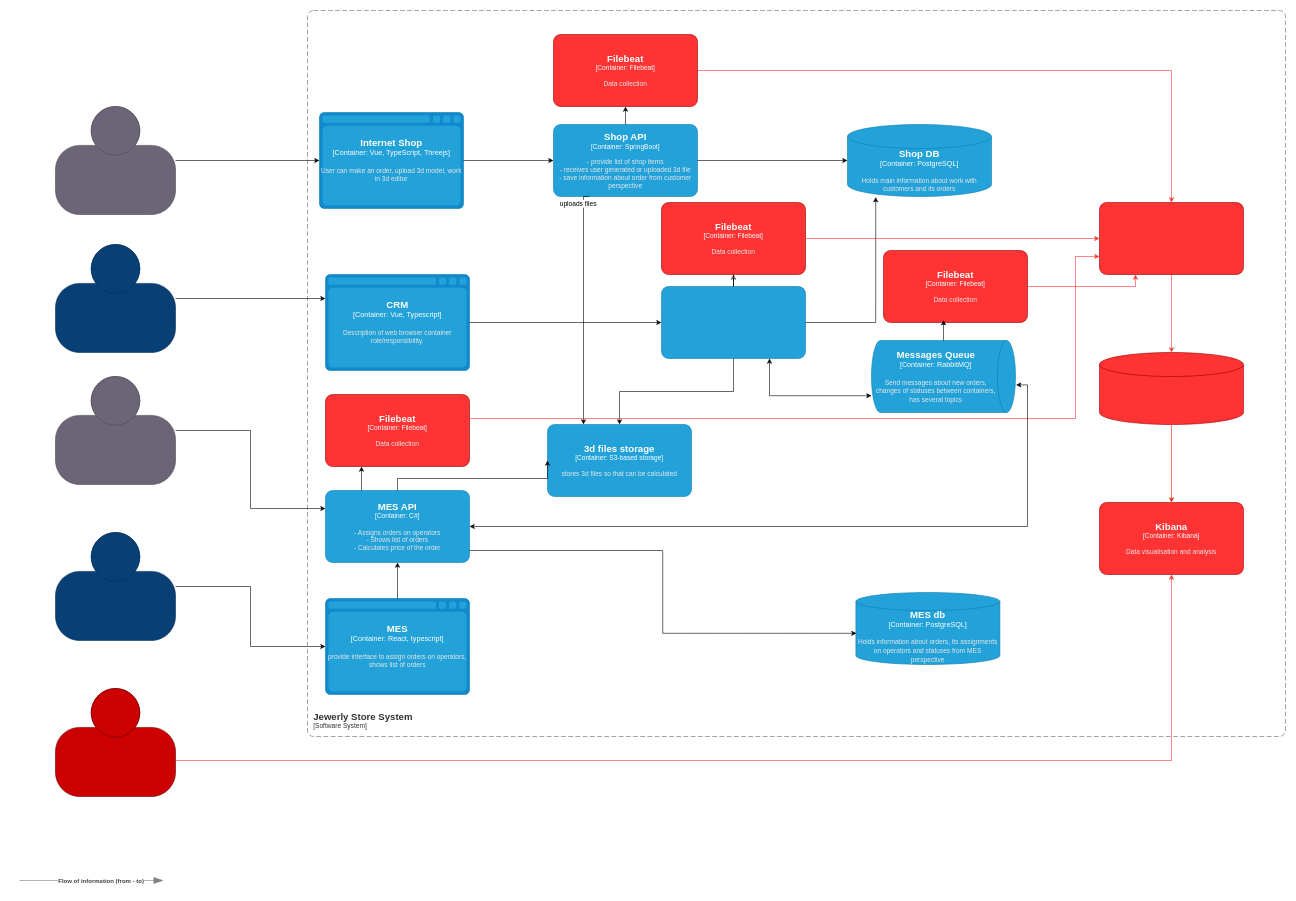
This 1296x901 diagram has some shape labels left out. The shapes that lost their labels are listed below. From the top down, each one's box as (x1, y1, x2, y2) in pixels, then its label:
(55, 106, 176, 214): Customer [Person] Description of external person.
(1099, 202, 1244, 274): Logstash [Container: Logstash] Data collection and processing
(55, 244, 176, 352): Seller [Person] Operates with order, confirms manufacturing for the user
(661, 286, 806, 358): CRM API [Container: SpringBoot] Description of container role/responsibility.
(1099, 352, 1244, 424): Elasticsearch [Container: Elasticsearch] Storage and indexing
(55, 376, 176, 484): API user [Person] Description of external person.
(55, 532, 176, 640): Operator [Person] Takes order in work, manufactures jewerly
(55, 688, 176, 796): Administrator [Person] Monitors the health of system
